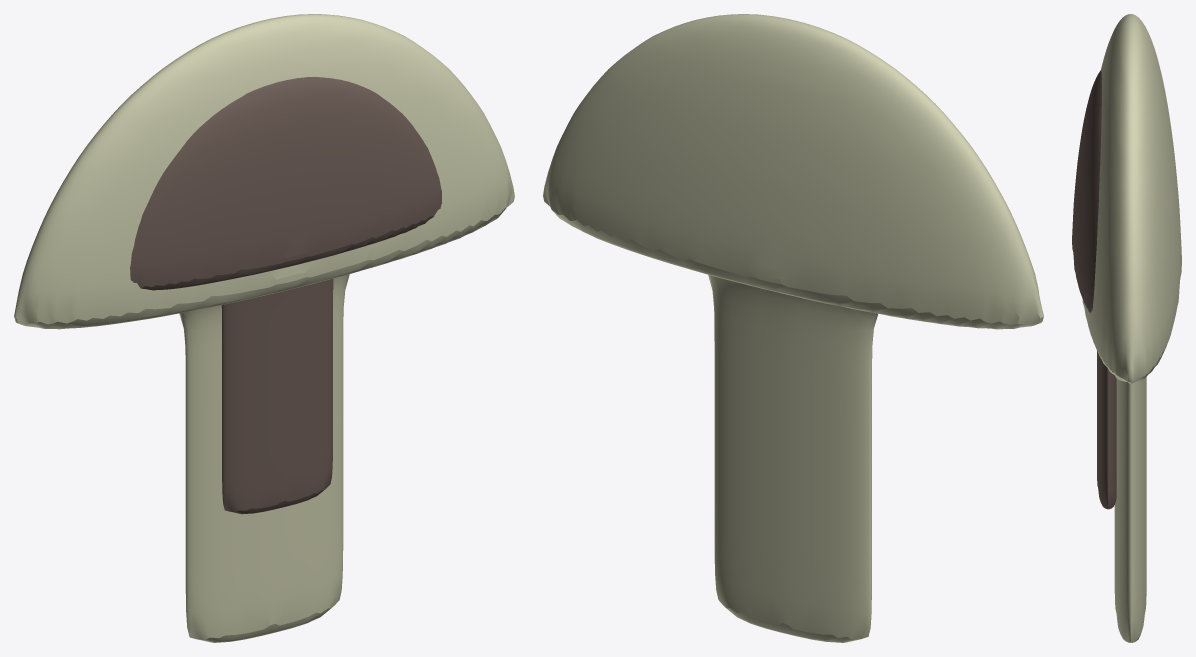
Rendered from champi (1).fbx.
The picture shows the model from 3 angles, left to right: view 1: azimuth 30°, elevation 25°; view 2: azimuth 150°, elevation 25°; view 3: azimuth 270°, elevation 25°; orthographic projection. The views are drawn at different scales.
Parts seen in each view (by area): view 1: champi; view 2: champi; view 3: champi.
Boxes of the visible parts, x1,y1,x2,y2 form: champi: (14,14,514,642); champi: (543,14,1043,642); champi: (1072,14,1181,642).
Bounding box in the file's own units: 41.08 × 48 × 8.21.
